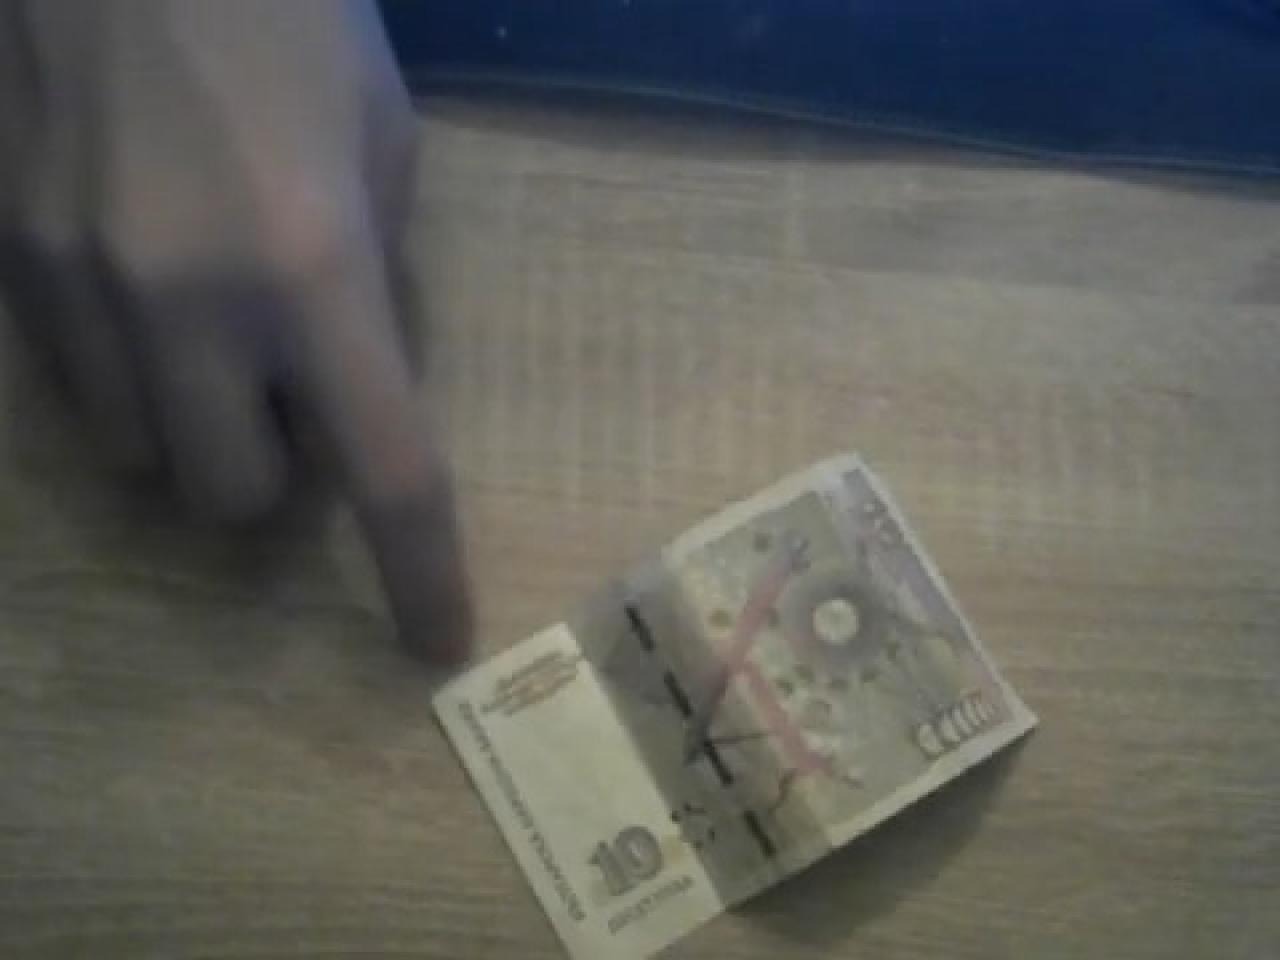10leva: (429, 453, 1037, 960)
